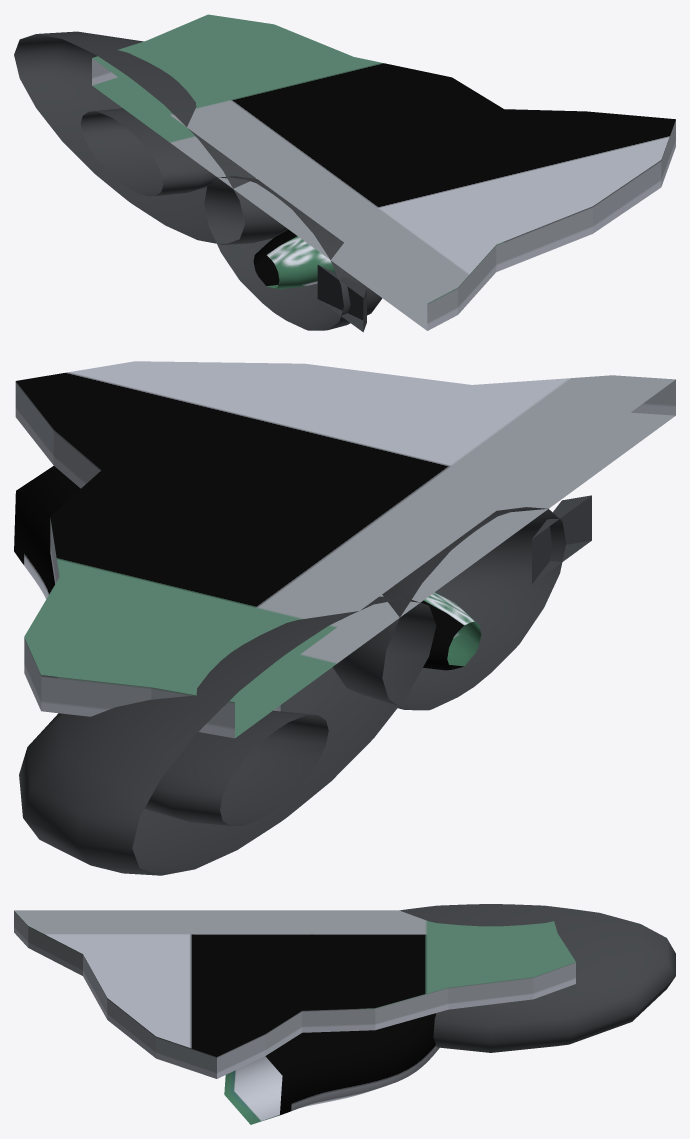
File: section-1.obj
The picture shows the model from 3 angles, top to bottom: view 1: azimuth 30°, elevation 25°; view 2: azimuth 150°, elevation 25°; view 3: azimuth 270°, elevation 25°; orthographic projection. The views are drawn at different scales.
Bounding box in the file's own units: 0.6156 × 0.2162 × 1.17.
